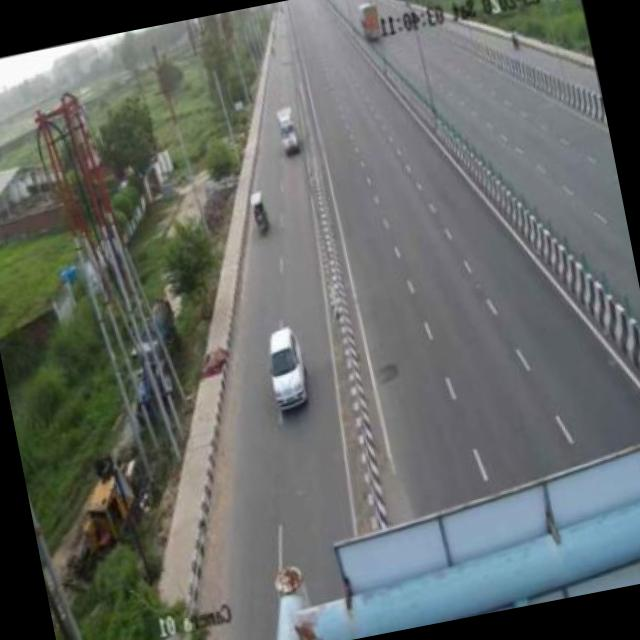car: (252, 316, 318, 419), (262, 98, 312, 165)
